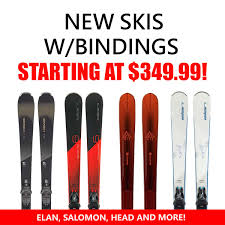skis: (168, 91, 212, 209), (62, 92, 104, 211), (118, 93, 160, 212), (16, 92, 57, 211)
